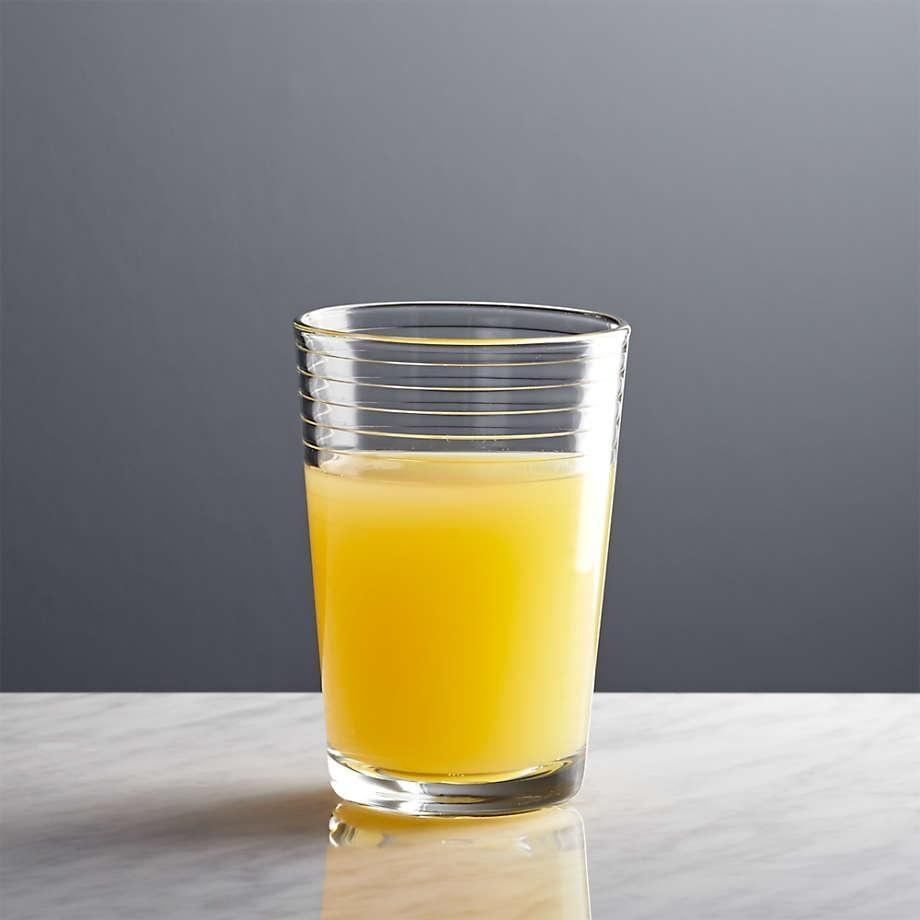glass-normal: (288, 290, 638, 829)
